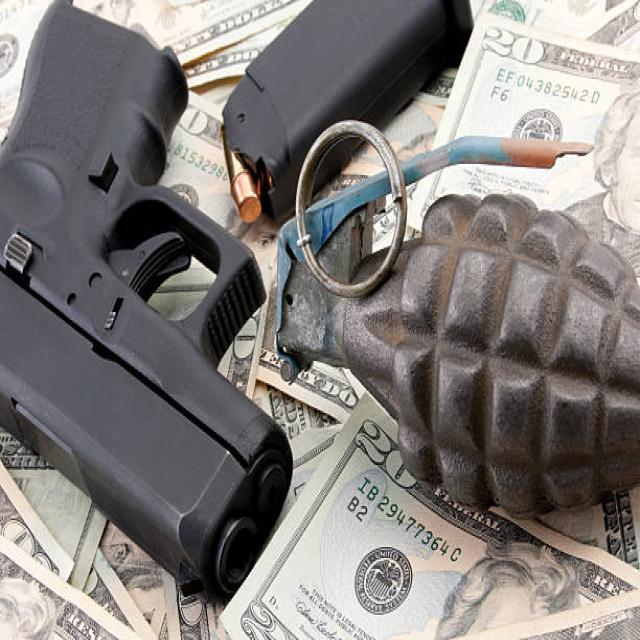grenade: (264, 110, 640, 532)
